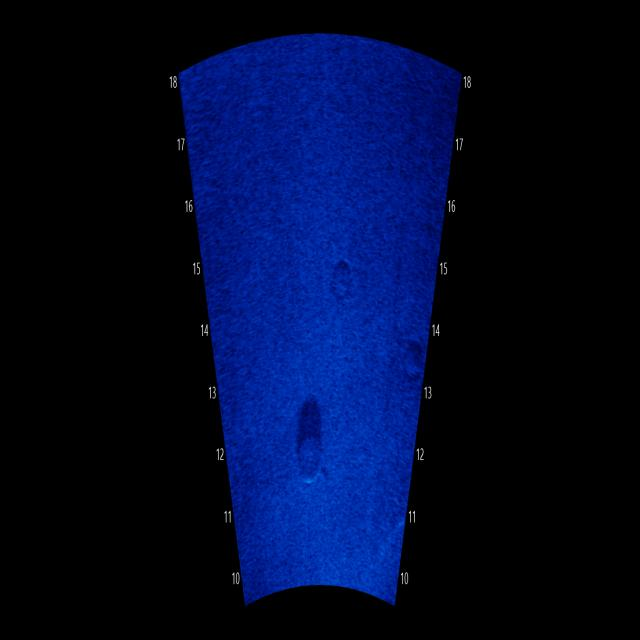circle: (289, 423, 332, 503), (322, 250, 362, 316)
